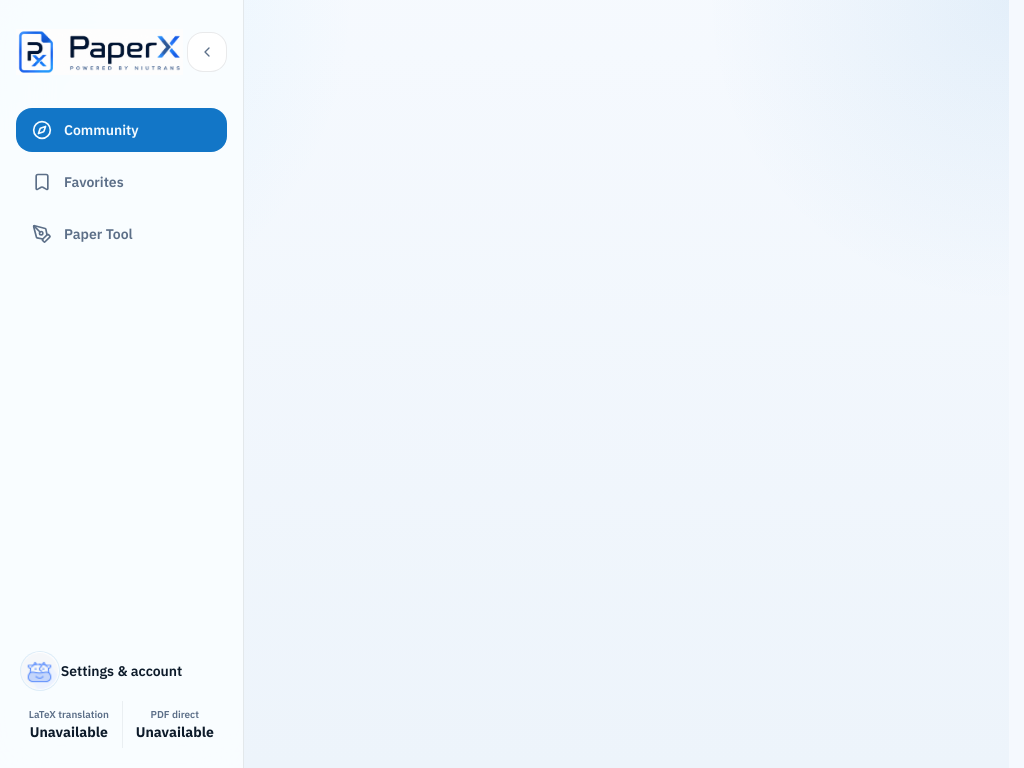
it: AppSidebar community shell › opens the account menu from the bottom-left avatar and exposes account settings actions
Expected: the picture with alt text "Settings & account" is shown, [21,652,59,690]
Step 1. Click the button with aria-label "researcher@example.com" → (122, 671), box [16,647,227,695]
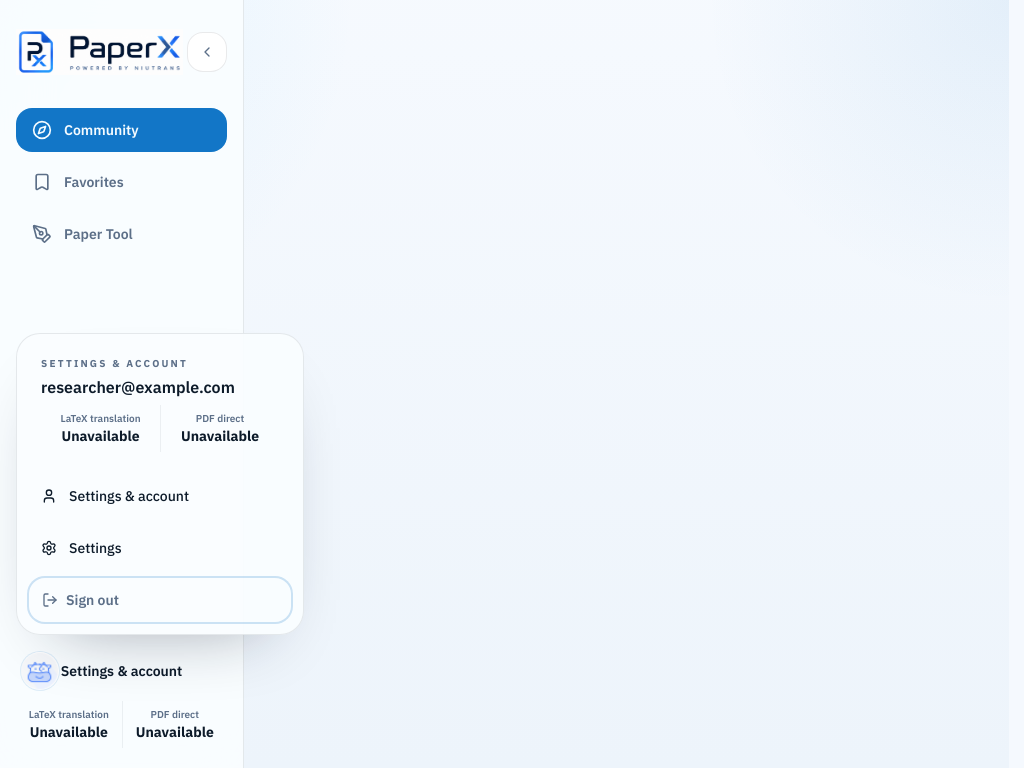
Now the link "Settings & account" is shown, box [41,487,189,505]
Now the link "Settings" is shown, box [41,539,122,557]
Now the button "Sign out" is shown, box [29,578,291,622]
